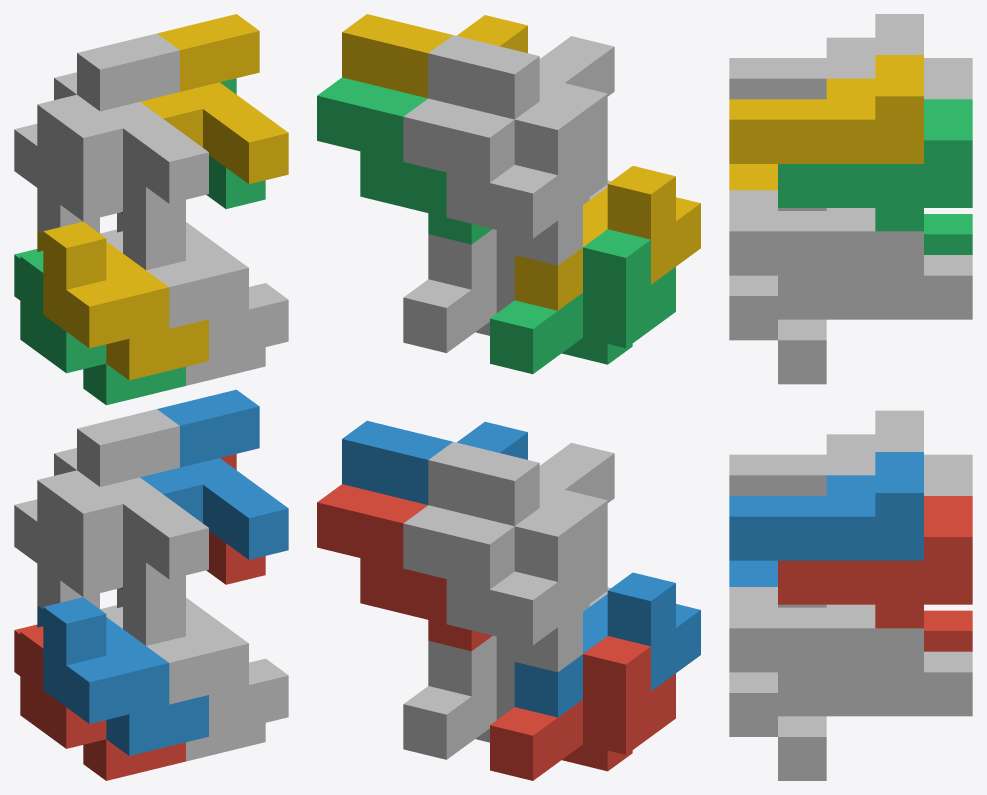
Rendered from tiling.obj.
3 views of the same model, side by side, from view 1: azimuth 30°, elevation 25°; view 2: azimuth 150°, elevation 25°; view 3: azimuth 270°, elevation 25° (orthographic). The views are drawn at different scales.
Parts seen in each view (by area): view 1: copy_2_domain_4, copy_2_domain_2, copy_1_domain_4, copy_1_domain_2, copy_2_domain_6, copy_2_domain_8, copy_1_domain_8, copy_1_domain_6, copy_1_domain_3, copy_1_domain_1, copy_2_domain_3, copy_2_domain_1 (+4 smaller); view 2: copy_2_domain_4, copy_2_domain_2, copy_2_domain_1, copy_2_domain_3, copy_1_domain_3, copy_1_domain_1, copy_2_domain_5, copy_2_domain_7, copy_1_domain_2, copy_1_domain_4, copy_2_domain_6, copy_2_domain_8 (+4 smaller); view 3: copy_1_domain_6, copy_1_domain_8, copy_2_domain_6, copy_2_domain_8, copy_1_domain_5, copy_1_domain_7, copy_2_domain_5, copy_2_domain_7, copy_2_domain_2, copy_2_domain_4, copy_1_domain_1, copy_2_domain_1 (+4 smaller).
Part boxes in pixels (x1=…): copy_2_domain_4: x1=37, y1=33, x2=208, y2=221; copy_2_domain_2: x1=37, y1=409, x2=208, y2=596; copy_1_domain_4: x1=37, y1=221, x2=208, y2=380; copy_1_domain_2: x1=37, y1=597, x2=208, y2=755; copy_2_domain_6: x1=140, y1=389, x2=288, y2=559; copy_2_domain_8: x1=140, y1=14, x2=288, y2=184; copy_1_domain_8: x1=117, y1=212, x2=288, y2=360; copy_1_domain_6: x1=117, y1=587, x2=288, y2=736; copy_1_domain_3: x1=14, y1=249, x2=185, y2=405; copy_1_domain_1: x1=14, y1=624, x2=185, y2=780; copy_2_domain_3: x1=14, y1=72, x2=185, y2=233; copy_2_domain_1: x1=14, y1=448, x2=185, y2=609; copy_2_domain_4: x1=428, y1=35, x2=614, y2=201; copy_2_domain_2: x1=428, y1=442, x2=614, y2=608; copy_2_domain_1: x1=403, y1=505, x2=582, y2=672; copy_2_domain_3: x1=403, y1=98, x2=582, y2=265; copy_1_domain_3: x1=490, y1=229, x2=675, y2=374; copy_1_domain_1: x1=490, y1=636, x2=675, y2=780; copy_2_domain_5: x1=317, y1=484, x2=492, y2=651; copy_2_domain_7: x1=317, y1=77, x2=492, y2=244; copy_1_domain_2: x1=514, y1=572, x2=700, y2=717; copy_1_domain_4: x1=514, y1=166, x2=700, y2=310; copy_2_domain_6: x1=342, y1=420, x2=527, y2=504; copy_2_domain_8: x1=342, y1=14, x2=527, y2=98; copy_1_domain_6: x1=729, y1=587, x2=923, y2=736; copy_1_domain_8: x1=729, y1=190, x2=923, y2=340; copy_2_domain_6: x1=729, y1=452, x2=923, y2=560; copy_2_domain_8: x1=729, y1=55, x2=923, y2=163; copy_1_domain_5: x1=778, y1=604, x2=972, y2=780; copy_1_domain_7: x1=778, y1=208, x2=972, y2=384; copy_2_domain_5: x1=778, y1=496, x2=972, y2=628; copy_2_domain_7: x1=778, y1=99, x2=972, y2=231; copy_2_domain_2: x1=729, y1=410, x2=923, y2=495; copy_2_domain_4: x1=729, y1=14, x2=923, y2=99; copy_1_domain_1: x1=924, y1=610, x2=972, y2=651; copy_2_domain_1: x1=924, y1=454, x2=972, y2=495.
Bounding box in the file's own units: 6 × 16 × 5.
